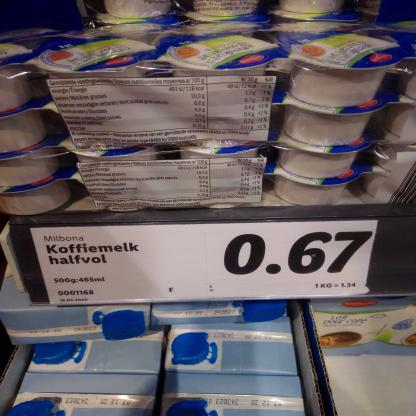prtg: (31, 221, 379, 305)
